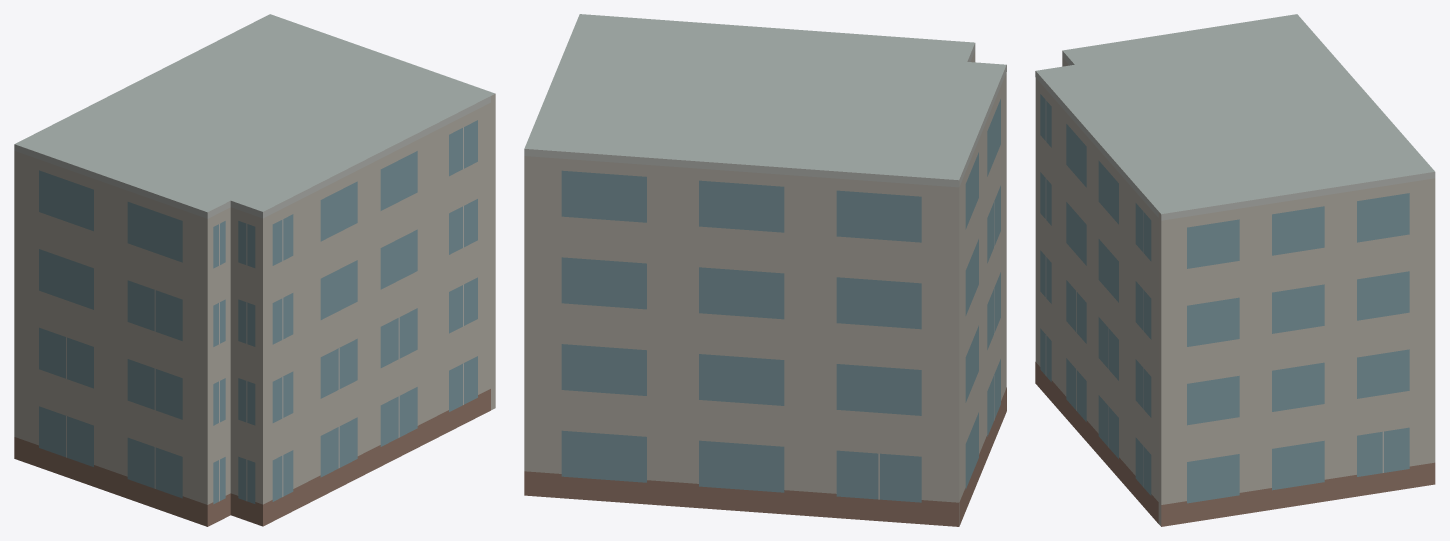
The model's file is survey-upis-32618457.glb.
The picture shows the model from 3 angles, left to right: view 1: azimuth 30°, elevation 25°; view 2: azimuth 150°, elevation 25°; view 3: azimuth 270°, elevation 25°; orthographic projection. The views are drawn at different scales.
Visible parts, largest first — view 1: survey-upis-32618457.tmp; view 2: survey-upis-32618457.tmp; view 3: survey-upis-32618457.tmp.
Part boxes in pixels (x1,y1,x2,y2): survey-upis-32618457.tmp: [14, 14, 495, 526]; survey-upis-32618457.tmp: [524, 14, 1006, 526]; survey-upis-32618457.tmp: [1035, 14, 1435, 526].
Bounding box in the file's own units: 16.08 × 11.7 × 13.57.
